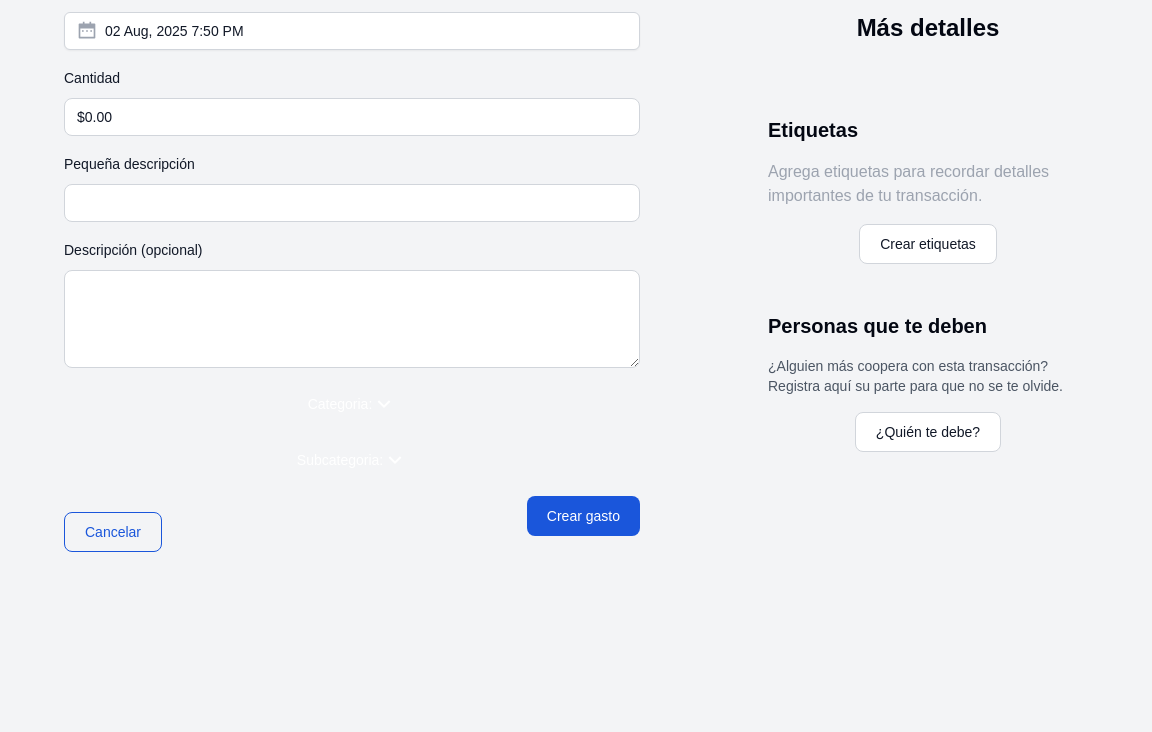
Test: ExpenseTemplate › Form Validations › Given a user filling the short description and then clicking create expense, show validation error for category to be required
Type "Test expense" into the field labelled "Pequeña descripción" at (352, 203), box 64,184 -> 640,222
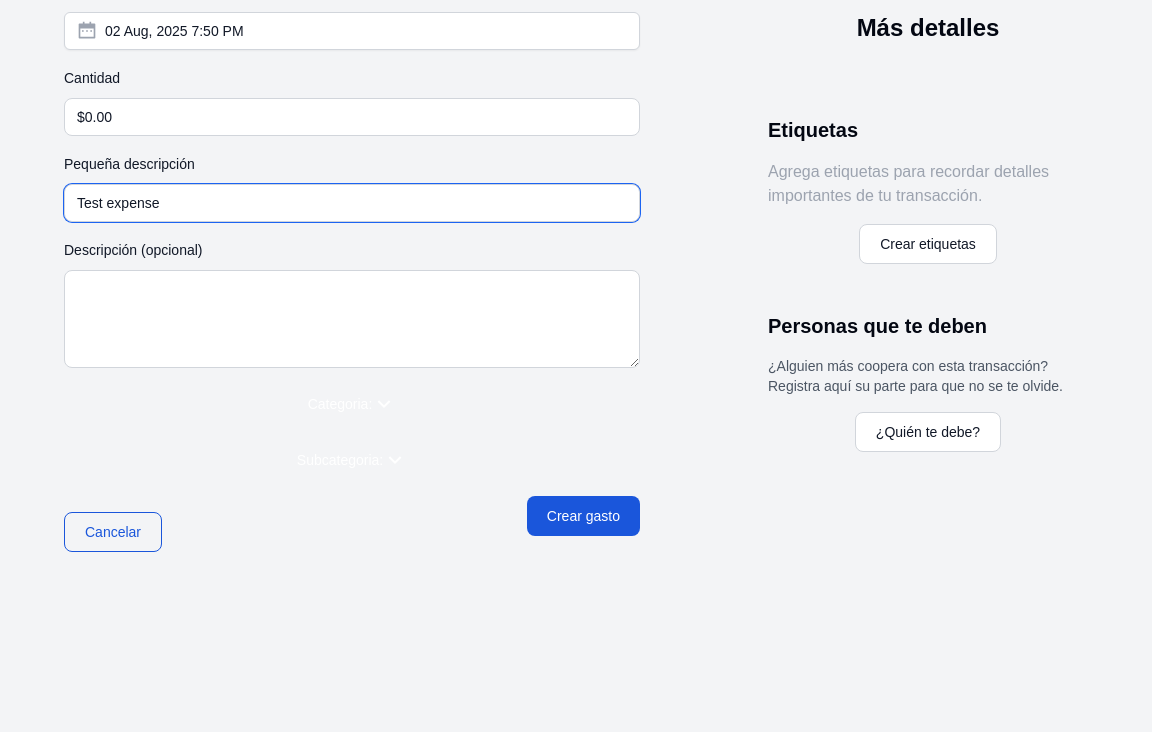
Click the button "Crear gasto" at (583, 516), box 527,496 -> 640,536
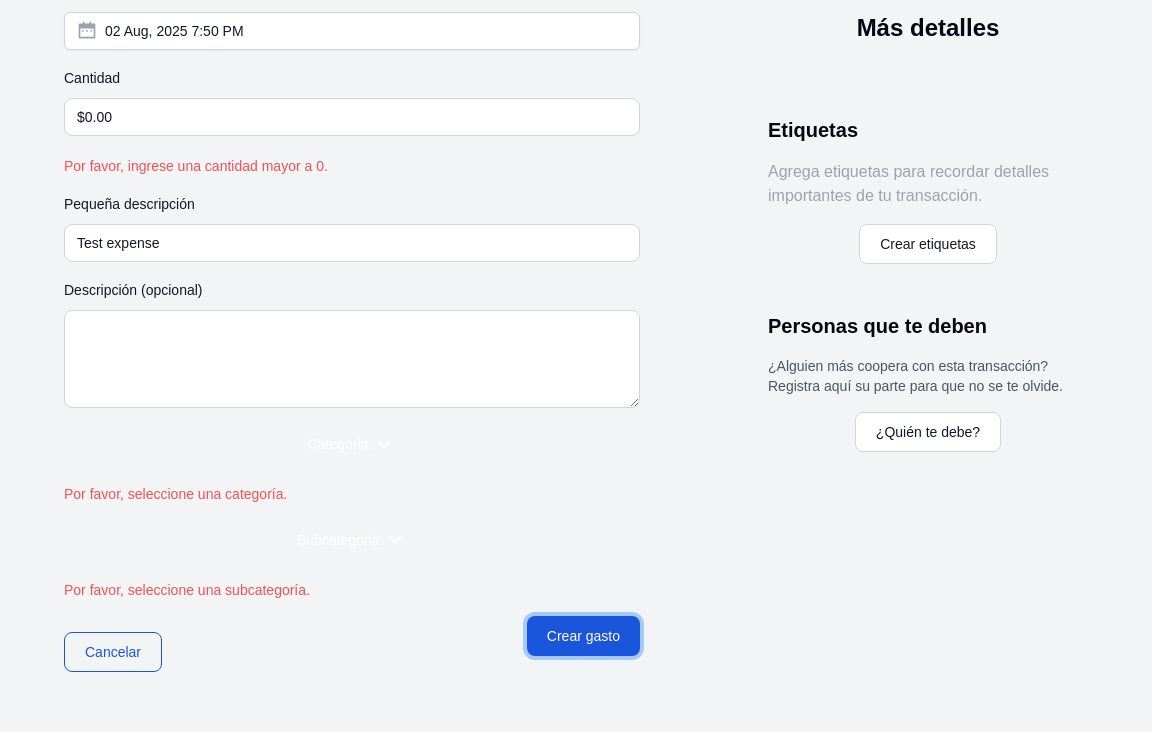
Expected: the text "Por favor, seleccione una categoría." is shown, 64,486 -> 287,502
